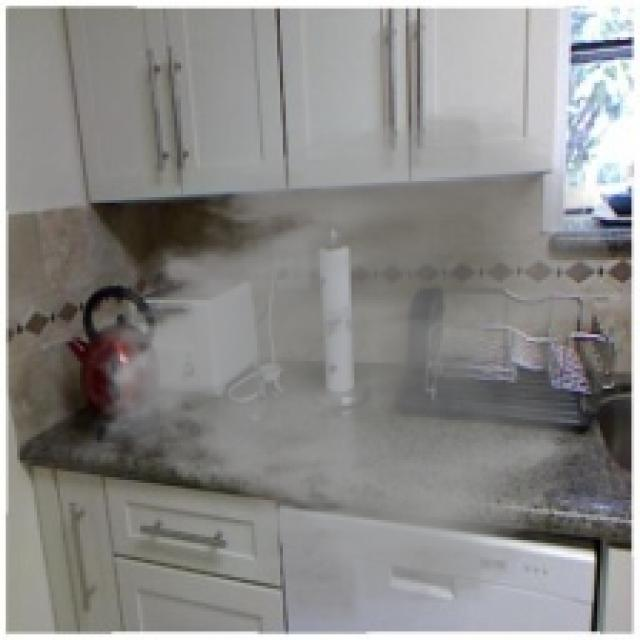smoke: (72, 100, 617, 634)
